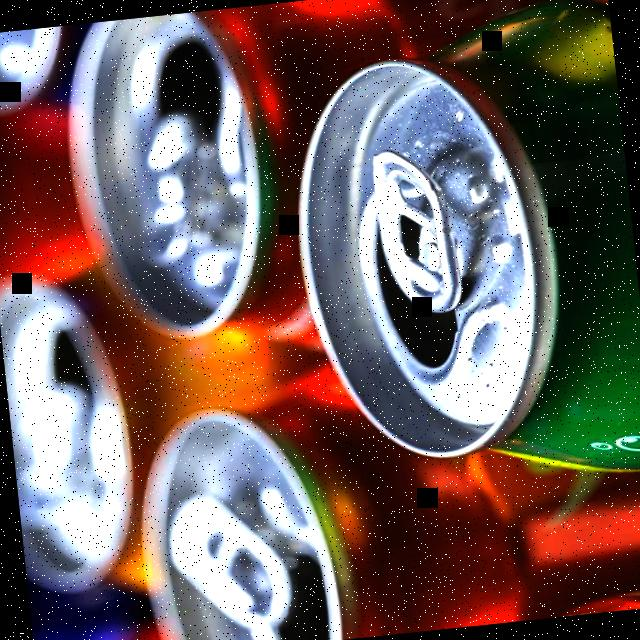can: (273, 0, 640, 505), (122, 334, 640, 640)
